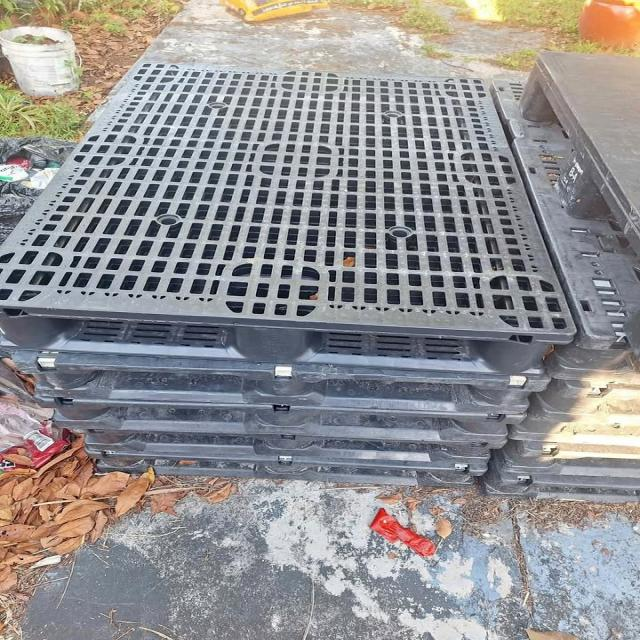non-igps: (0, 56, 582, 387), (6, 332, 561, 428), (484, 67, 640, 390), (28, 379, 534, 453), (510, 45, 640, 271), (59, 417, 512, 479), (78, 442, 492, 495), (469, 443, 640, 508), (485, 418, 640, 483), (503, 384, 640, 451), (529, 371, 640, 425)
